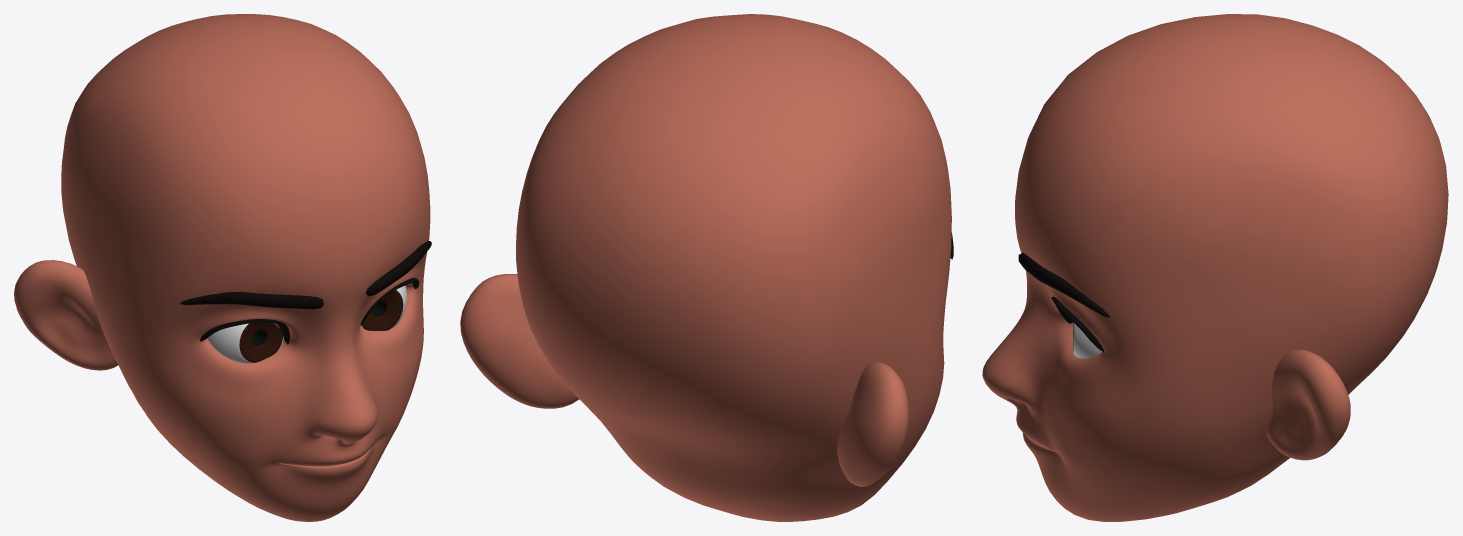
3 views of the same model, side by side, from view 1: azimuth 30°, elevation 25°; view 2: azimuth 150°, elevation 25°; view 3: azimuth 270°, elevation 25° (orthographic). The views are drawn at different scales.
Parts seen in each view (by area): view 1: skin, ears, brows, eyes, eyes.001; view 2: skin, ears; view 3: skin, ears, brows, eyes.001.
Part boxes in pixels (x1,y1,x2,y2): skin: [61, 14, 430, 521]; ears: [14, 260, 117, 370]; brows: [180, 240, 431, 344]; eyes: [207, 322, 283, 363]; eyes.001: [360, 285, 406, 330]; skin: [516, 14, 951, 521]; ears: [460, 274, 908, 486]; skin: [982, 14, 1448, 521]; ears: [1266, 349, 1350, 460]; brows: [1018, 253, 1109, 352]; eyes.001: [1073, 322, 1102, 358].
Bounding box in the file's own units: 1.81 × 2 × 1.78.
